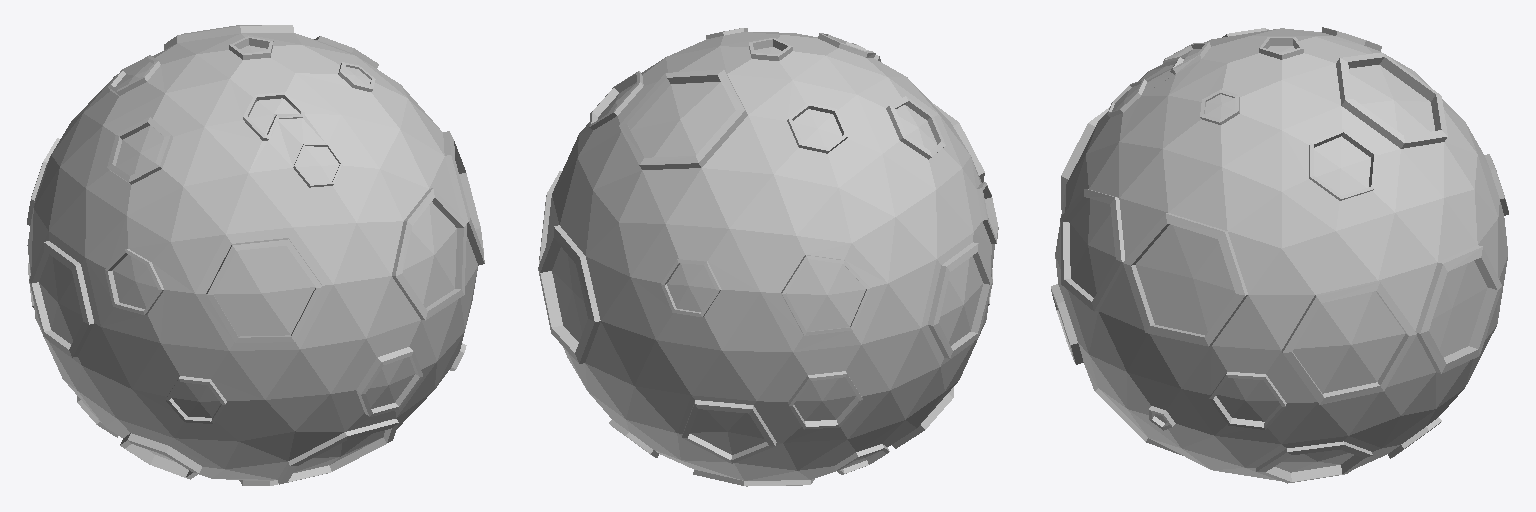
File: Moon2.obj
The picture shows the model from 3 angles: view 1: azimuth 30°, elevation 25°; view 2: azimuth 150°, elevation 25°; view 3: azimuth 270°, elevation 25°; orthographic projection.
Parts seen in each view (by area): view 1: Icosphere; view 2: Icosphere; view 3: Icosphere.
Part boxes in pixels (bbox=[...]): Icosphere: bbox=[27, 25, 484, 485]; Icosphere: bbox=[538, 28, 998, 486]; Icosphere: bbox=[1051, 27, 1508, 483].
Size of the model in its own units: 2.02 by 2.04 by 2.02.